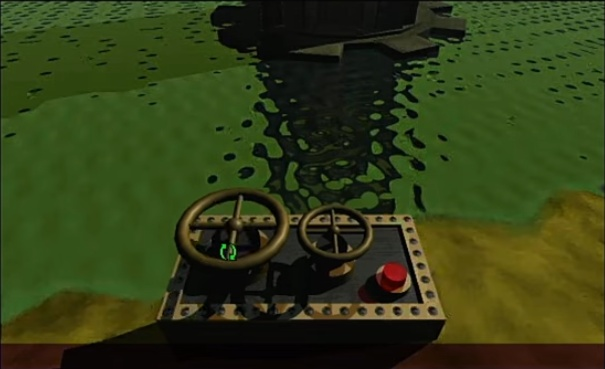Hold: (216, 238, 239, 262)
